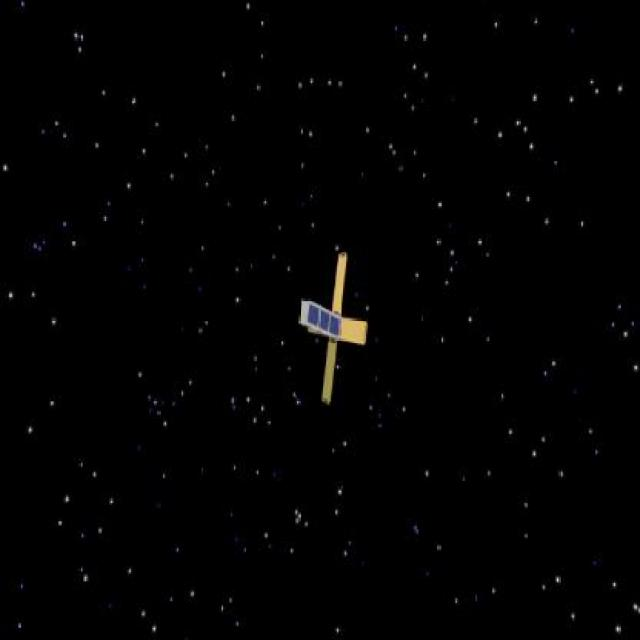medium_debris: (296, 248, 389, 406)
